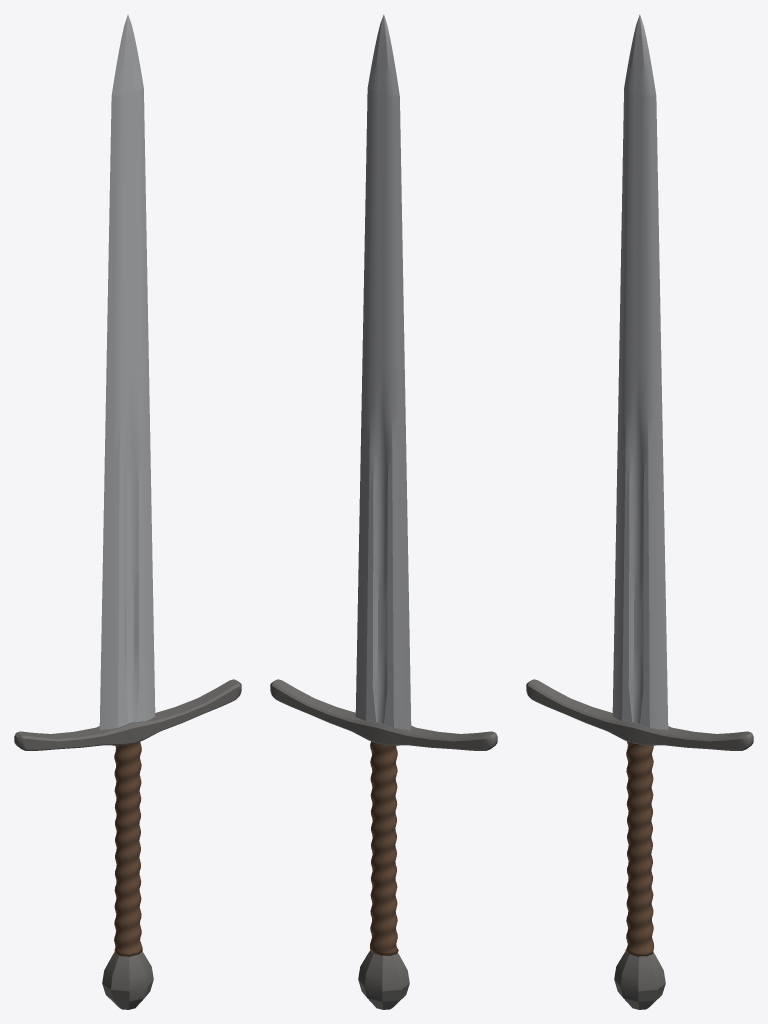
The model's file is bastard-sword.glb.
The picture shows the model from 3 angles, left to right: view 1: azimuth 30°, elevation 25°; view 2: azimuth 150°, elevation 25°; view 3: azimuth 330°, elevation 25°; orthographic projection.
Visible parts, largest first — view 1: bastard-sword; view 2: bastard-sword; view 3: bastard-sword.
Part boxes in pixels (bbox=[...]): bastard-sword: bbox=[14, 14, 241, 1009]; bastard-sword: bbox=[270, 14, 497, 1009]; bastard-sword: bbox=[526, 14, 753, 1009].
Size of the model in its own units: 0.68 by 2.87 by 0.1112.
